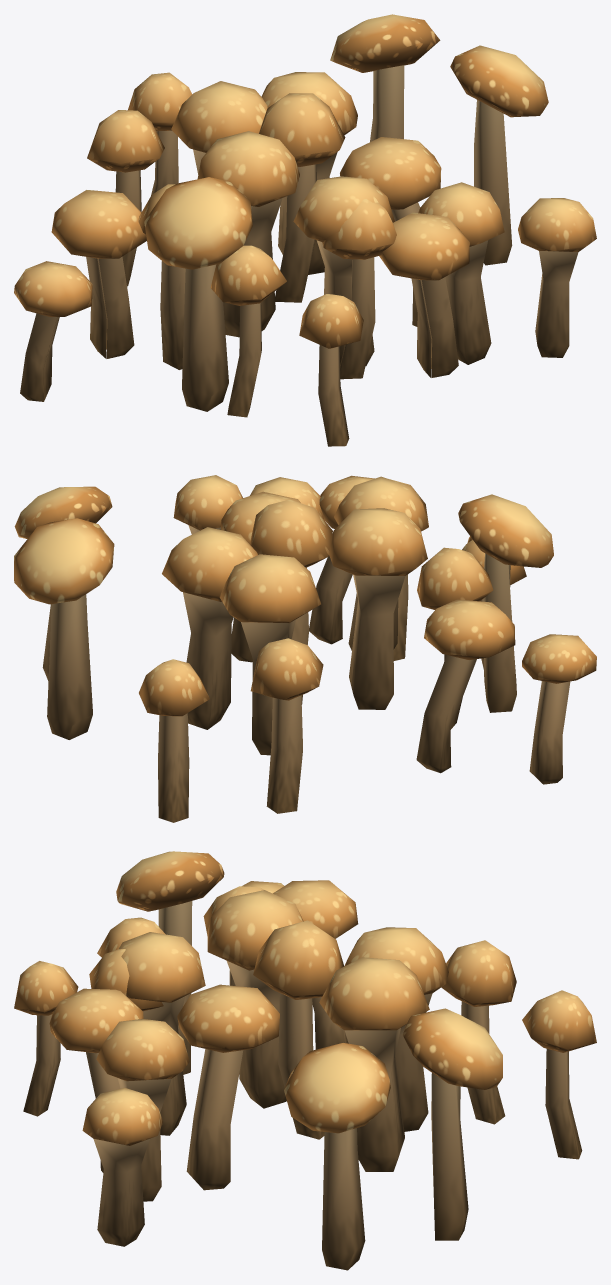
Rendered from HoneyMushroom_001.fbx.
3 views of the same model, one above another, from view 1: azimuth 30°, elevation 25°; view 2: azimuth 150°, elevation 25°; view 3: azimuth 270°, elevation 25° (orthographic). The views are drawn at different scales.
Parts seen in each view (by area): view 1: Mock_Honey_002_LOD0; view 2: Mock_Honey_002_LOD0; view 3: Mock_Honey_002_LOD0.
Part boxes in pixels (left/top/right/bottom): Mock_Honey_002_LOD0: left=14, top=14, right=596, bottom=446; Mock_Honey_002_LOD0: left=14, top=475, right=596, bottom=822; Mock_Honey_002_LOD0: left=14, top=851, right=596, bottom=1270.
Size of what is drawn, in the model's own units: 34.04 by 13.57 by 30.39.
Materials: 1 (1 with a texture image).
